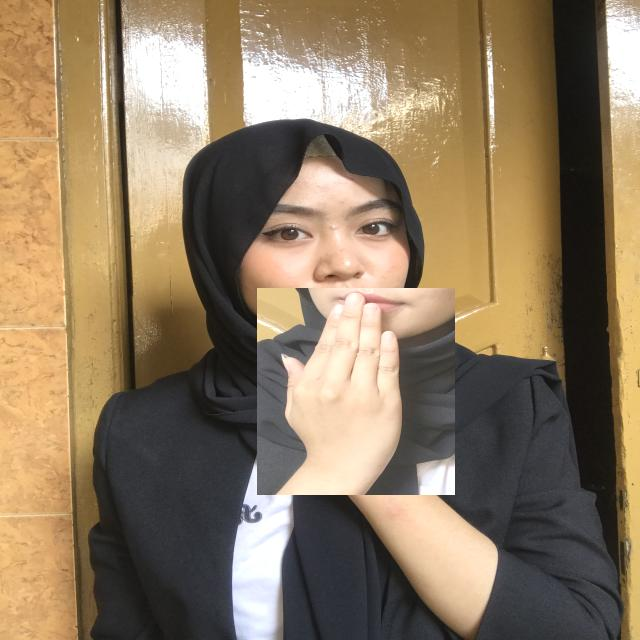ganteng: (257, 288, 455, 495)
